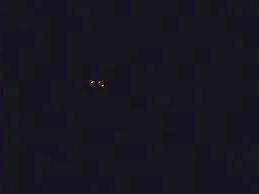Plane: (82, 72, 115, 93)
